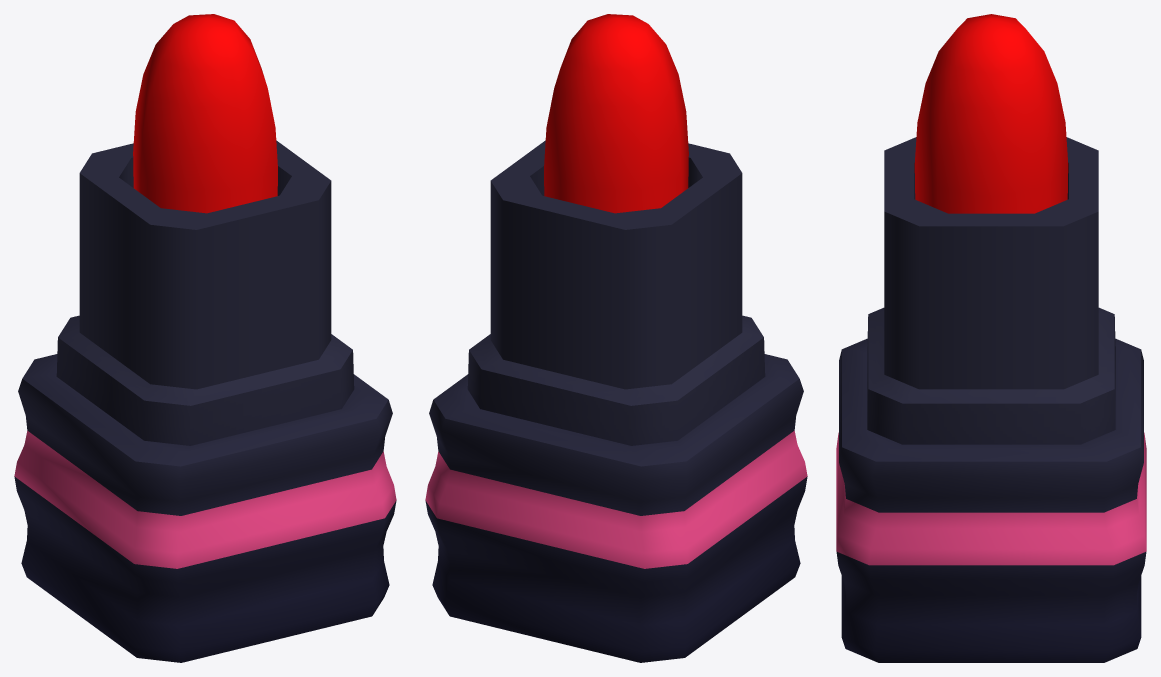
Rendered from Lipstick_03.fbx.
3 renders of one model, left to right at view 1: azimuth 30°, elevation 25°; view 2: azimuth 150°, elevation 25°; view 3: azimuth 270°, elevation 25°, orthographic. The views are drawn at different scales.
Parts seen in each view (by area): view 1: Lipstick_03; view 2: Lipstick_03; view 3: Lipstick_03.
Boxes of the visible parts, left/top/right/bottom form: Lipstick_03: left=14, top=14, right=396, bottom=662; Lipstick_03: left=425, top=14, right=807, bottom=662; Lipstick_03: left=836, top=14, right=1146, bottom=662.
Bounding box in the file's own units: 0.0436 × 0.0913 × 0.0436.
Materials: 1 (1 with a texture image).
